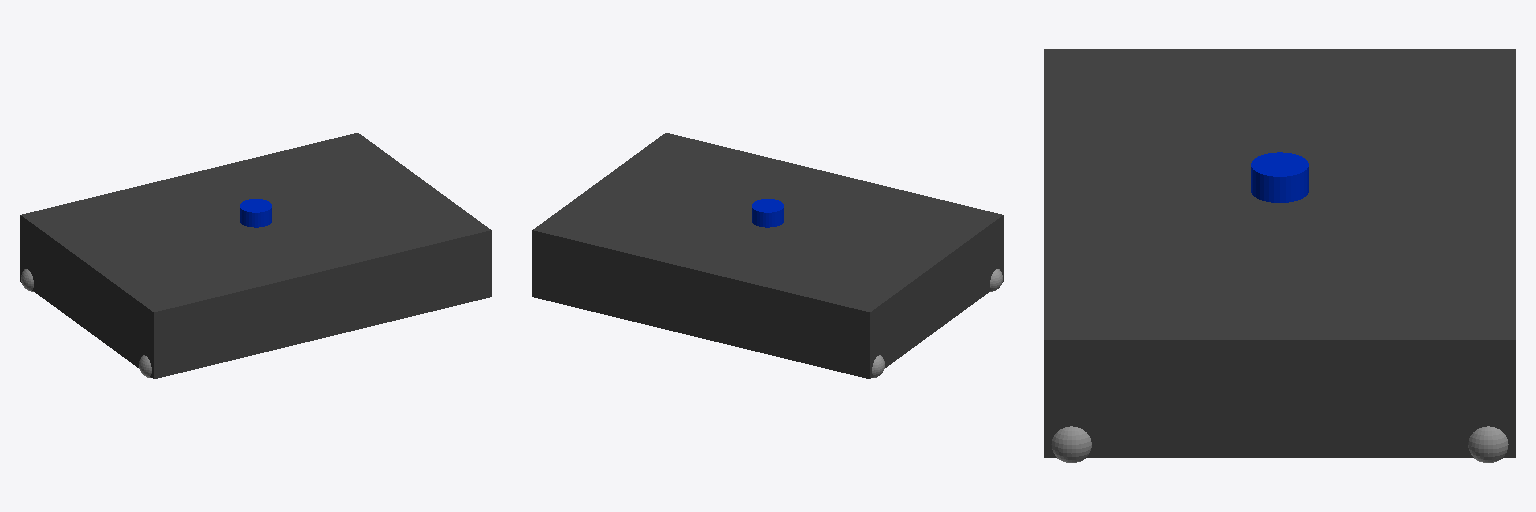
The robot description file, URDF, robot "zmr_robot":
<!--
  ZMR Robot — SIMULATION URDF (v4 — 4-Caster Match)
  ==============================================================
  Matches the original CAD topology exactly (4 casters at corners, 
  drive wheels slightly offset in X), but uses primitive shapes 
  and the TurtleBot3 stable physics pattern so it works perfectly 
  in Gazebo without sinking or flipping.
-->
<robot name="zmr_robot">

 <!-- ═══════════════════════════════════════════════════ -->
 <!-- BASE FOOTPRINT — virtual ground reference (NO mass) -->
 <!-- ═══════════════════════════════════════════════════ -->
 <link name="base_footprint"/>

 <joint name="base_joint" type="fixed">
  <parent link="base_footprint"/>
  <child link="base_link"/>
  <origin xyz="0.0 0.0 0.033" rpy="0 0 0"/>
 </joint>

 <!-- ═══════════════════════════════════════════════════ -->
 <!-- BASE LINK — chassis                                 -->
 <!-- Matches original CAD size bounding box approx       -->
 <!-- ═══════════════════════════════════════════════════ -->
 <link name="base_link">
  <visual>
   <origin xyz="0.0 0.0 0.07" rpy="0 0 0"/>
   <geometry>
    <box size="0.95 0.65 0.18"/>
   </geometry>
   <material name="dark_grey">
    <color rgba="0.3 0.3 0.3 1.0"/>
   </material>
  </visual>
  <collision>
   <origin xyz="0.0 0.0 0.07" rpy="0 0 0"/>
   <geometry>
    <box size="0.95 0.65 0.18"/>
   </geometry>
  </collision>
  <inertial>
   <origin xyz="0.0 0.0 0.07" rpy="0 0 0"/>
   <mass value="15.0"/>
   <inertia ixx="0.56" ixy="0.0" ixz="0.0"
            iyy="1.16" iyz="0.0" izz="1.65"/>
  </inertial>
 </link>

 <!-- ═══════════════════════════════════════════════════ -->
 <!-- LEFT WHEEL                                          -->
 <!-- ═══════════════════════════════════════════════════ -->
 <joint name="left_wheel_joint" type="continuous">
  <parent link="base_link"/>
  <child link="left_wheel"/>
  <origin xyz="-0.035 0.263 0.047" rpy="-1.5707963 0 0"/>
  <axis xyz="0 0 1"/>
 </joint>

 <link name="left_wheel">
  <visual>
   <origin xyz="0 0 0" rpy="0 0 0"/>
   <geometry>
    <cylinder radius="0.08" length="0.04"/>
   </geometry>
   <material name="black">
    <color rgba="0.1 0.1 0.1 1.0"/>
   </material>
  </visual>
  <collision>
   <origin xyz="0 0 0" rpy="0 0 0"/>
   <geometry>
    <cylinder radius="0.08" length="0.04"/>
   </geometry>
  </collision>
  <inertial>
   <origin xyz="0 0 0" rpy="0 0 0"/>
   <mass value="1.0"/>
   <inertia ixx="0.00177" ixy="0.0" ixz="0.0"
            iyy="0.00177" iyz="0.0" izz="0.0032"/>
  </inertial>
 </link>

 <!-- ═══════════════════════════════════════════════════ -->
 <!-- RIGHT WHEEL                                         -->
 <!-- ═══════════════════════════════════════════════════ -->
 <joint name="right_wheel_joint" type="continuous">
  <parent link="base_link"/>
  <child link="right_wheel"/>
  <origin xyz="-0.035 -0.263 0.047" rpy="-1.5707963 0 0"/>
  <axis xyz="0 0 1"/>
 </joint>

 <link name="right_wheel">
  <visual>
   <origin xyz="0 0 0" rpy="0 0 0"/>
   <geometry>
    <cylinder radius="0.08" length="0.04"/>
   </geometry>
   <material name="black">
    <color rgba="0.1 0.1 0.1 1.0"/>
   </material>
  </visual>
  <collision>
   <origin xyz="0 0 0" rpy="0 0 0"/>
   <geometry>
    <cylinder radius="0.08" length="0.04"/>
   </geometry>
  </collision>
  <inertial>
   <origin xyz="0 0 0" rpy="0 0 0"/>
   <mass value="1.0"/>
   <inertia ixx="0.00177" ixy="0.0" ixz="0.0"
            iyy="0.00177" iyz="0.0" izz="0.0032"/>
  </inertial>
 </link>

 <!-- ═══════════════════════════════════════════════════ -->
 <!-- FRONT LEFT CASTER                                   -->
 <!-- ═══════════════════════════════════════════════════ -->
 <joint name="caster_fl_joint" type="fixed">
  <parent link="base_link"/>
  <child link="caster_fl"/>
  <origin xyz="0.4575 0.2875 0.0" rpy="0 0 0"/>
 </joint>

 <link name="caster_fl">
  <visual>
   <geometry>
    <sphere radius="0.033"/>
   </geometry>
   <material name="grey"><color rgba="0.6 0.6 0.6 1.0"/></material>
  </visual>
  <collision>
   <geometry>
    <sphere radius="0.030"/>
   </geometry>
  </collision>
  <inertial>
   <mass value="0.2"/>
   <inertia ixx="0.000087" ixy="0.0" ixz="0.0" iyy="0.000087" iyz="0.0" izz="0.000087"/>
  </inertial>
 </link>

 <!-- ═══════════════════════════════════════════════════ -->
 <!-- FRONT RIGHT CASTER                                  -->
 <!-- ═══════════════════════════════════════════════════ -->
 <joint name="caster_fr_joint" type="fixed">
  <parent link="base_link"/>
  <child link="caster_fr"/>
  <origin xyz="0.4575 -0.2875 0.0" rpy="0 0 0"/>
 </joint>

 <link name="caster_fr">
  <visual>
   <geometry>
    <sphere radius="0.033"/>
   </geometry>
   <material name="grey"><color rgba="0.6 0.6 0.6 1.0"/></material>
  </visual>
  <collision>
   <geometry>
    <sphere radius="0.030"/>
   </geometry>
  </collision>
  <inertial>
   <mass value="0.2"/>
   <inertia ixx="0.000087" ixy="0.0" ixz="0.0" iyy="0.000087" iyz="0.0" izz="0.000087"/>
  </inertial>
 </link>

 <!-- ═══════════════════════════════════════════════════ -->
 <!-- REAR LEFT CASTER                                    -->
 <!-- ═══════════════════════════════════════════════════ -->
 <joint name="caster_rl_joint" type="fixed">
  <parent link="base_link"/>
  <child link="caster_rl"/>
  <origin xyz="-0.4575 0.2875 0.0" rpy="0 0 0"/>
 </joint>

 <link name="caster_rl">
  <visual>
   <geometry>
    <sphere radius="0.033"/>
   </geometry>
   <material name="grey"><color rgba="0.6 0.6 0.6 1.0"/></material>
  </visual>
  <collision>
   <geometry>
    <sphere radius="0.030"/>
   </geometry>
  </collision>
  <inertial>
   <mass value="0.2"/>
   <inertia ixx="0.000087" ixy="0.0" ixz="0.0" iyy="0.000087" iyz="0.0" izz="0.000087"/>
  </inertial>
 </link>

 <!-- ═══════════════════════════════════════════════════ -->
 <!-- REAR RIGHT CASTER                                   -->
 <!-- ═══════════════════════════════════════════════════ -->
 <joint name="caster_rr_joint" type="fixed">
  <parent link="base_link"/>
  <child link="caster_rr"/>
  <origin xyz="-0.4575 -0.2875 0.0" rpy="0 0 0"/>
 </joint>

 <link name="caster_rr">
  <visual>
   <geometry>
    <sphere radius="0.033"/>
   </geometry>
   <material name="grey"><color rgba="0.6 0.6 0.6 1.0"/></material>
  </visual>
  <collision>
   <geometry>
    <sphere radius="0.030"/>
   </geometry>
  </collision>
  <inertial>
   <mass value="0.2"/>
   <inertia ixx="0.000087" ixy="0.0" ixz="0.0" iyy="0.000087" iyz="0.0" izz="0.000087"/>
  </inertial>
 </link>

 <!-- ═══════════════════════════════════════════════════ -->
 <!-- LIDAR                                               -->
 <!-- ═══════════════════════════════════════════════════ -->
 <joint name="lidar_joint" type="fixed">
  <parent link="base_link"/>
  <child link="lidar_link"/>
  <origin xyz="0.0 0.0 0.185" rpy="0 0 0"/>
 </joint>

 <link name="lidar_link">
  <visual>
   <geometry>
    <cylinder radius="0.04" length="0.04"/>
   </geometry>
   <material name="blue">
    <color rgba="0.0 0.2 0.8 1.0"/>
   </material>
  </visual>
  <inertial>
   <mass value="0.2"/>
   <inertia ixx="0.0001" ixy="0.0" ixz="0.0" iyy="0.0001" iyz="0.0" izz="0.0001"/>
  </inertial>
 </link>

 <!-- ═══════════════════════════════════════════════════ -->
 <!-- GAZEBO COLORS & FRICTION                            -->
 <!-- ═══════════════════════════════════════════════════ -->
 <gazebo reference="base_link"><material>Gazebo/DarkGrey</material></gazebo>
 <gazebo reference="lidar_link"><material>Gazebo/Blue</material></gazebo>
 
 <gazebo reference="left_wheel">
  <material>Gazebo/FlatBlack</material>
  <mu1>1.5</mu1>
  <mu2>1.5</mu2>
  <kp>1000000.0</kp>
  <kd>100.0</kd>
 </gazebo>
 <gazebo reference="right_wheel">
  <material>Gazebo/FlatBlack</material>
  <mu1>1.5</mu1>
  <mu2>1.5</mu2>
  <kp>1000000.0</kp>
  <kd>100.0</kd>
 </gazebo>

 <!-- Casters must be frictionless! -->
 <gazebo reference="caster_fl">
  <material>Gazebo/Grey</material>
  <mu1>0.0</mu1><mu2>0.0</mu2><kp>1000000.0</kp><kd>100.0</kd>
 </gazebo>
 <gazebo reference="caster_fr">
  <material>Gazebo/Grey</material>
  <mu1>0.0</mu1><mu2>0.0</mu2><kp>1000000.0</kp><kd>100.0</kd>
 </gazebo>
 <gazebo reference="caster_rl">
  <material>Gazebo/Grey</material>
  <mu1>0.0</mu1><mu2>0.0</mu2><kp>1000000.0</kp><kd>100.0</kd>
 </gazebo>
 <gazebo reference="caster_rr">
  <material>Gazebo/Grey</material>
  <mu1>0.0</mu1><mu2>0.0</mu2><kp>1000000.0</kp><kd>100.0</kd>
 </gazebo>

  <!-- ═══════════════════════════════════════════════════ -->
 <!-- GAZEBO SIM (Harmonic / gz-sim 8) SYSTEM PLUGINS      -->
 <!--                                                      -->
 <!-- ROS 2 Jazzy ships Gazebo Sim, not Gazebo Classic, so  -->
 <!-- the libgazebo_ros_*.so plugins this file used before  -->
 <!-- do not exist and never loaded. These are the Gazebo   -->
 <!-- Sim equivalents; ROS topics come from ros_gz_bridge   -->
 <!-- (see launch/slam_sim.launch.py).                      -->
 <!-- ═══════════════════════════════════════════════════ -->

 <gazebo>
  <plugin filename="gz-sim-diff-drive-system"
          name="gz::sim::systems::DiffDrive">
   <left_joint>left_wheel_joint</left_joint>
   <right_joint>right_wheel_joint</right_joint>
   <wheel_separation>0.526</wheel_separation>
   <wheel_radius>0.080</wheel_radius>
   <max_linear_acceleration>0.6</max_linear_acceleration>
   <topic>cmd_vel</topic>
   <odom_topic>odom</odom_topic>
   <tf_topic>tf</tf_topic>
   <frame_id>odom</frame_id>
   <child_frame_id>base_footprint</child_frame_id>
   <odom_publish_frequency>30</odom_publish_frequency>
  </plugin>
 </gazebo>

 <gazebo>
  <plugin filename="gz-sim-joint-state-publisher-system"
          name="gz::sim::systems::JointStatePublisher">
   <topic>joint_states</topic>
   <joint_name>left_wheel_joint</joint_name>
   <joint_name>right_wheel_joint</joint_name>
  </plugin>
 </gazebo>

 <!-- RPLidar A3M1. gz-sim uses gpu_lidar; the sensor is rendered by the
      gz-sim-sensors-system declared in the world file. -->
 <gazebo reference="lidar_link">
  <sensor name="rplidar" type="gpu_lidar">
   <pose>0 0 0 0 0 0</pose>
   <topic>scan</topic>
   <gz_frame_id>lidar_link</gz_frame_id>
   <update_rate>10</update_rate>
   <always_on>1</always_on>
   <visualize>false</visualize>
   <lidar>
    <scan>
     <horizontal>
      <samples>720</samples>
      <resolution>1</resolution>
      <min_angle>-3.14159</min_angle>
      <max_angle>3.14159</max_angle>
     </horizontal>
     <vertical>
      <samples>1</samples>
      <min_angle>0</min_angle>
      <max_angle>0</max_angle>
     </vertical>
    </scan>
    <range>
     <min>0.20</min>
     <max>25.0</max>
     <resolution>0.01</resolution>
    </range>
    <noise>
     <type>gaussian</type>
     <mean>0.0</mean>
     <stddev>0.01</stddev>
    </noise>
   </lidar>
  </sensor>
 </gazebo>

</robot>

--- What the picture shows (computed from the rendered views, not written in the file) ---
3 views of the same robot in one strip: view 1: azimuth 30°, elevation 25°; view 2: azimuth 150°, elevation 25°; view 3: azimuth 270°, elevation 25° (orthographic).
Robot: zmr_robot — 9 links, 8 joints (2 continuous, 6 fixed); root link base_footprint; default pose: all joints at 0.
Visible links, largest first — view 1: base_link, lidar_link; view 2: base_link, lidar_link; view 3: base_link, lidar_link, caster_fl, caster_fr.
Boxes of the visible links, bbox=[...] form: base_link: bbox=[20, 133, 491, 378]; lidar_link: bbox=[240, 199, 271, 227]; base_link: bbox=[532, 133, 1003, 378]; lidar_link: bbox=[752, 199, 783, 227]; base_link: bbox=[1044, 49, 1515, 457]; lidar_link: bbox=[1251, 152, 1308, 202]; caster_fl: bbox=[1468, 426, 1508, 462]; caster_fr: bbox=[1051, 426, 1091, 462].
Size in the robot's own frame: 0.981 by 0.65 by 0.238 metres.
Geometry: primitives only (box / cylinder / sphere), no mesh files.
